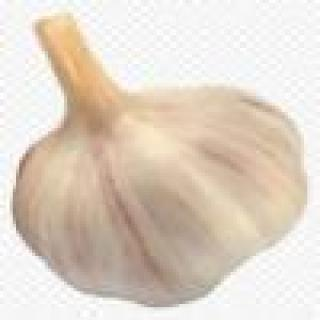Bawang Putih: (11, 8, 312, 309)
